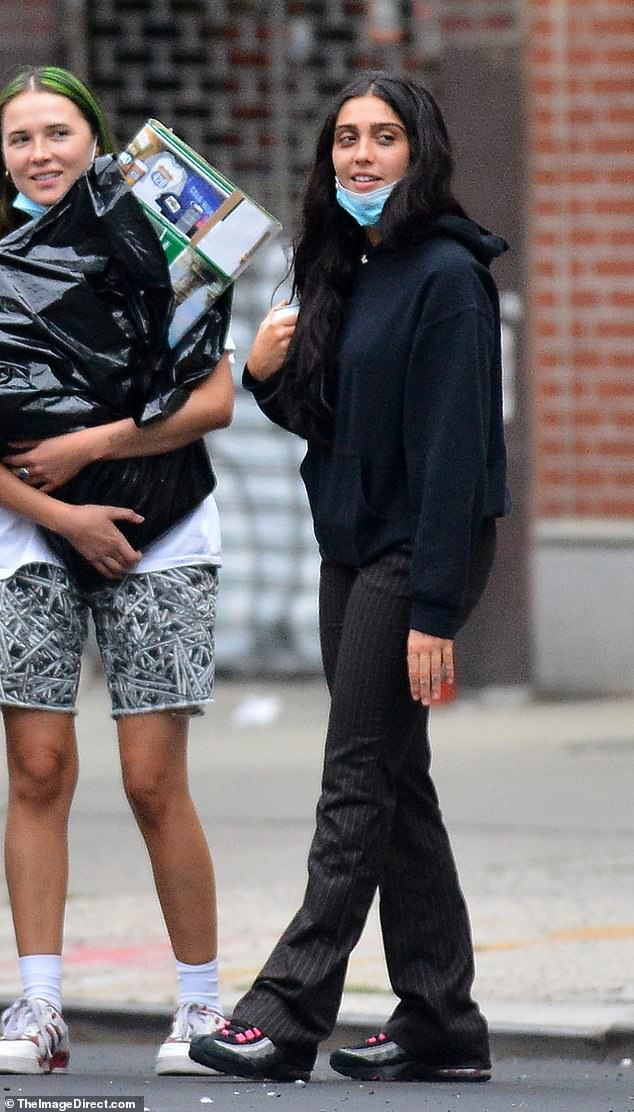Person: (187, 73, 527, 1103), (3, 61, 238, 1095)
